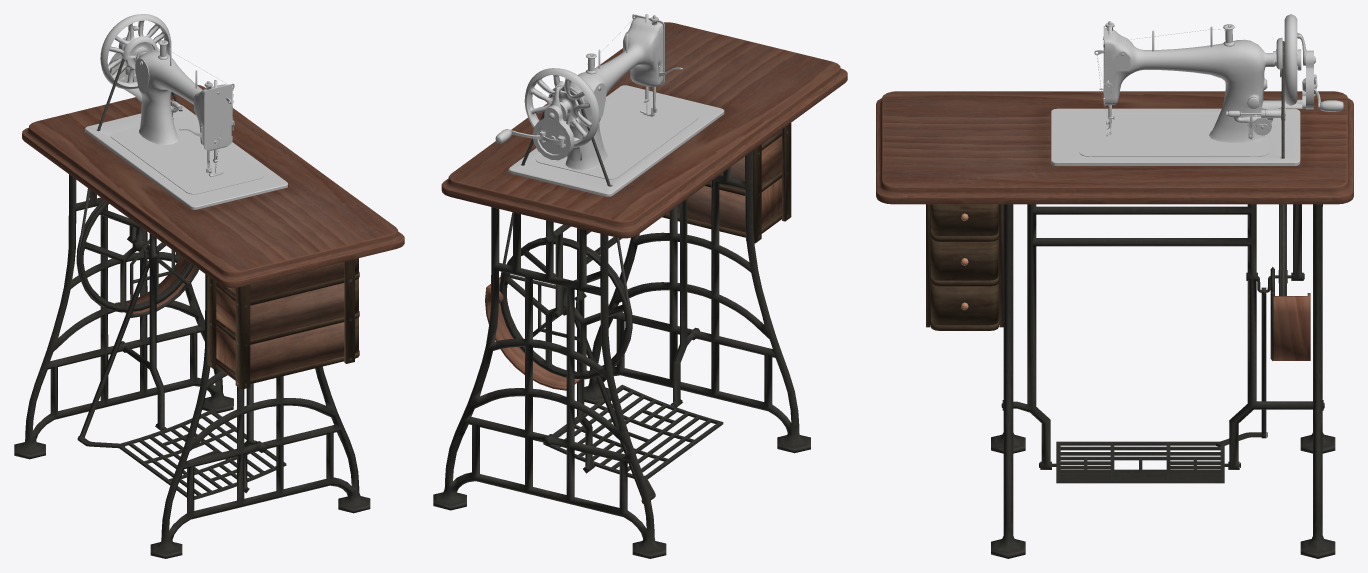
The model's file is Sewing Machinefbx.fbx.
3 renders of one model, left to right at view 1: azimuth 30°, elevation 25°; view 2: azimuth 150°, elevation 25°; view 3: azimuth 270°, elevation 25°, orthographic. The views are drawn at different scales.
Parts seen in each view (by area): view 1: Plane.078, Plane.054, Plane.056_Plane.002, Circle.089_Circle.011, Plane.071, Circle.028_Circle.121, Plane.080, Plane.079, Plane.072, Circle.091, Plane.062, Torus.004_Torus.002 (+9 smaller); view 2: Plane.054, Plane.078, Plane.056_Plane.002, Circle.028_Circle.121, Circle.089_Circle.011, Plane.071, Circle.091, Plane.062, Torus.004_Torus.002, Plane.080, Plane.072, Plane.068 (+6 smaller); view 3: Plane.078, Plane.062, Plane.054, Circle.028_Circle.121, Plane.071, Plane.056_Plane.002, Circle.089_Circle.011, Plane.080, Plane.079, Plane.068, Plane.074, Torus.004_Torus.002 (+4 smaller).
Boxes of the visible parts, x1=… form: Plane.078: x1=22, y1=84, x2=404, y2=287; Plane.054: x1=14, y1=174, x2=370, y2=558; Plane.056_Plane.002: x1=111, y1=117, x2=263, y2=194; Circle.089_Circle.011: x1=85, y1=105, x2=287, y2=209; Plane.071: x1=80, y1=409, x2=286, y2=499; Circle.028_Circle.121: x1=135, y1=50, x2=227, y2=145; Plane.080: x1=216, y1=317, x2=358, y2=378; Plane.079: x1=216, y1=278, x2=358, y2=339; Plane.072: x1=207, y1=259, x2=354, y2=389; Circle.091: x1=76, y1=199, x2=193, y2=311; Plane.062: x1=123, y1=226, x2=256, y2=493; Torus.004_Torus.002: x1=100, y1=14, x2=171, y2=89; Plane.054: x1=433, y1=151, x2=810, y2=558; Plane.078: x1=441, y1=22, x2=847, y2=238; Plane.056_Plane.002: x1=535, y1=97, x2=698, y2=179; Circle.028_Circle.121: x1=565, y1=17, x2=663, y2=170; Circle.089_Circle.011: x1=508, y1=85, x2=724, y2=196; Plane.071: x1=543, y1=384, x2=723, y2=499; Circle.091: x1=499, y1=237, x2=632, y2=378; Plane.062: x1=553, y1=199, x2=694, y2=473; Torus.004_Torus.002: x1=524, y1=68, x2=599, y2=147; Plane.080: x1=668, y1=178, x2=781, y2=232; Plane.072: x1=746, y1=123, x2=791, y2=243; Plane.068: x1=485, y1=277, x2=581, y2=390; Plane.078: x1=876, y1=91, x2=1353, y2=204; Plane.062: x1=1013, y1=204, x2=1312, y2=469; Plane.054: x1=991, y1=204, x2=1335, y2=558; Circle.028_Circle.121: x1=1105, y1=28, x2=1274, y2=142; Plane.071: x1=1039, y1=432, x2=1261, y2=483; Plane.056_Plane.002: x1=1079, y1=114, x2=1268, y2=156; Circle.089_Circle.011: x1=1051, y1=108, x2=1300, y2=165; Plane.080: x1=931, y1=283, x2=998, y2=325; Plane.079: x1=931, y1=239, x2=998, y2=280; Plane.068: x1=1273, y1=293, x2=1310, y2=360; Plane.074: x1=931, y1=204, x2=998, y2=235; Torus.004_Torus.002: x1=1275, y1=14, x2=1297, y2=105.
Bounding box in the file's own units: 117 × 215 × 194.
